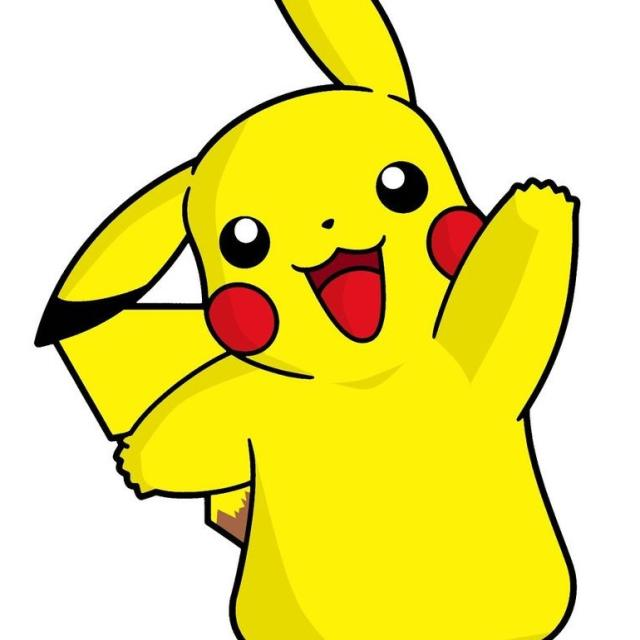Pikachu: (184, 88, 537, 637)
